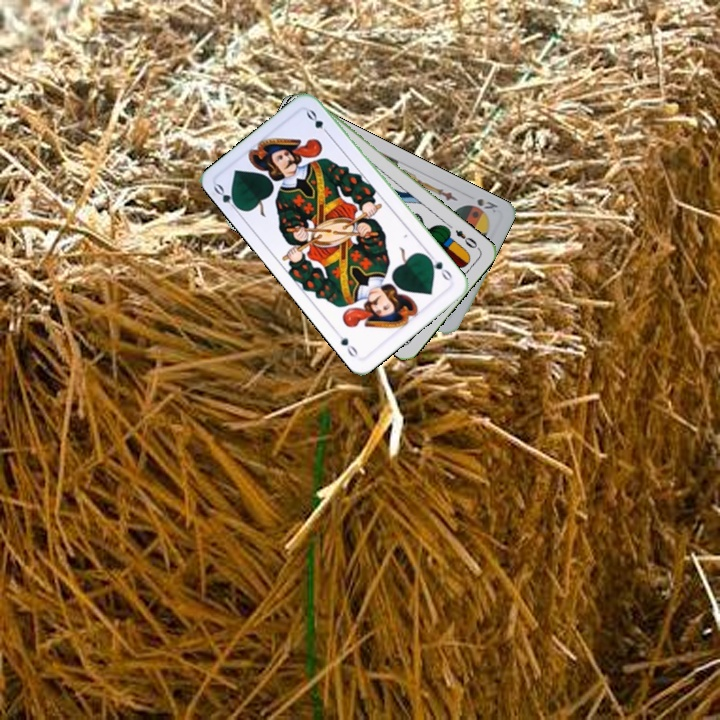EO: (451, 226, 482, 253)
GO: (210, 180, 244, 216), (423, 250, 455, 286)
SK: (473, 194, 501, 215)
